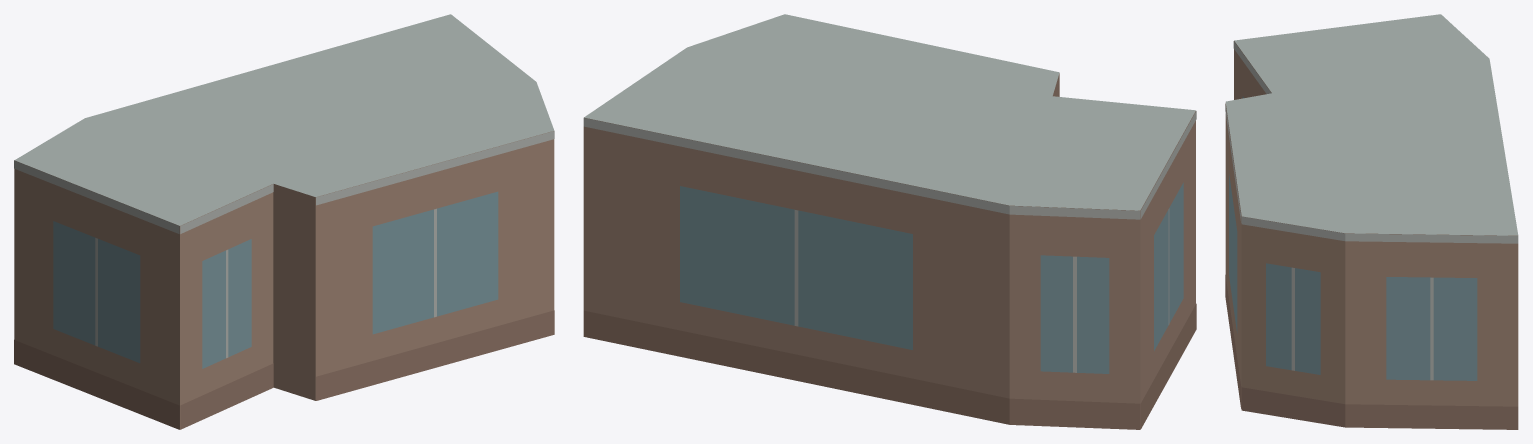
The model's file is survey-upis-32473234.glb.
3 views of the same model, side by side, from view 1: azimuth 30°, elevation 25°; view 2: azimuth 150°, elevation 25°; view 3: azimuth 270°, elevation 25° (orthographic). The views are drawn at different scales.
Visible parts, largest first — view 1: survey-upis-32473234.tmp; view 2: survey-upis-32473234.tmp; view 3: survey-upis-32473234.tmp.
Part boxes in pixels (box(x1,y1,x2,y2)): survey-upis-32473234.tmp: box(14, 14, 554, 429); survey-upis-32473234.tmp: box(583, 14, 1196, 429); survey-upis-32473234.tmp: box(1225, 14, 1518, 429).
Size of the model in its own units: 7.48 by 3.05 by 4.18.
